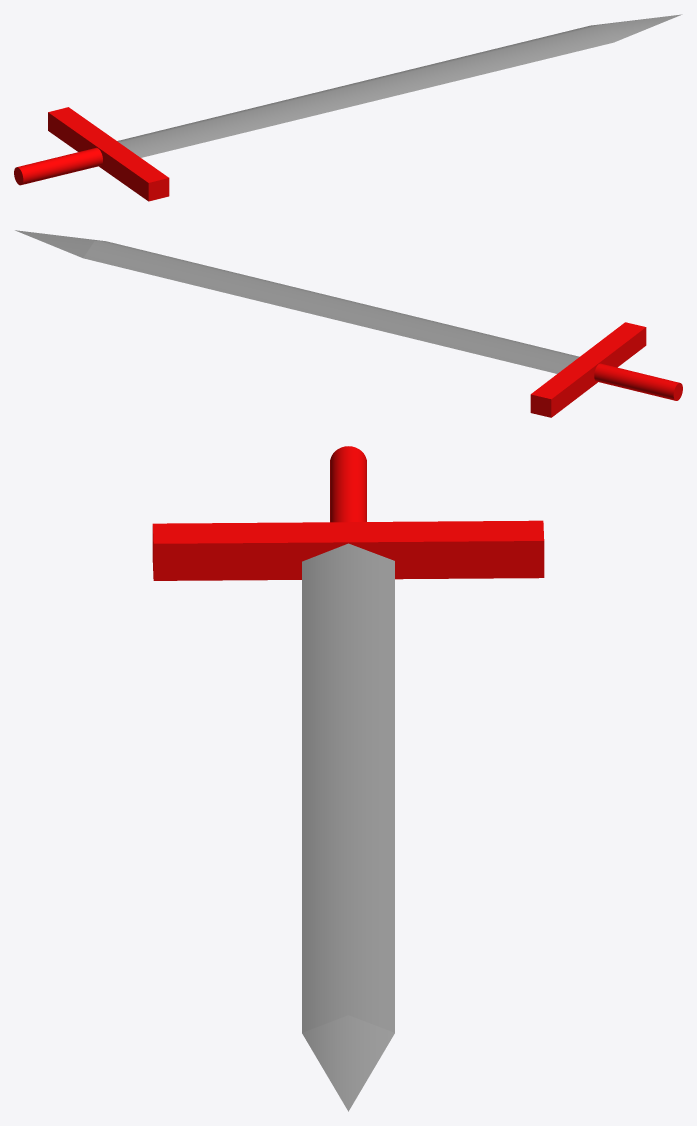
File: sword.fbx
3 renders of one model, top to bottom at view 1: azimuth 30°, elevation 25°; view 2: azimuth 150°, elevation 25°; view 3: azimuth 270°, elevation 25°, orthographic. The views are drawn at different scales.
Visible parts, largest first — view 1: Blade, Hilt; view 2: Blade, Hilt; view 3: Blade, Hilt.
Part boxes in pixels (x1,y1,x2,y2): Blade: [117, 14, 682, 157]; Hilt: [14, 107, 169, 201]; Blade: [15, 230, 579, 373]; Hilt: [530, 322, 682, 417]; Blade: [302, 543, 394, 1111]; Hilt: [152, 446, 544, 580].
Bounding box in the file's own units: 370 × 9.9 × 94.47.
